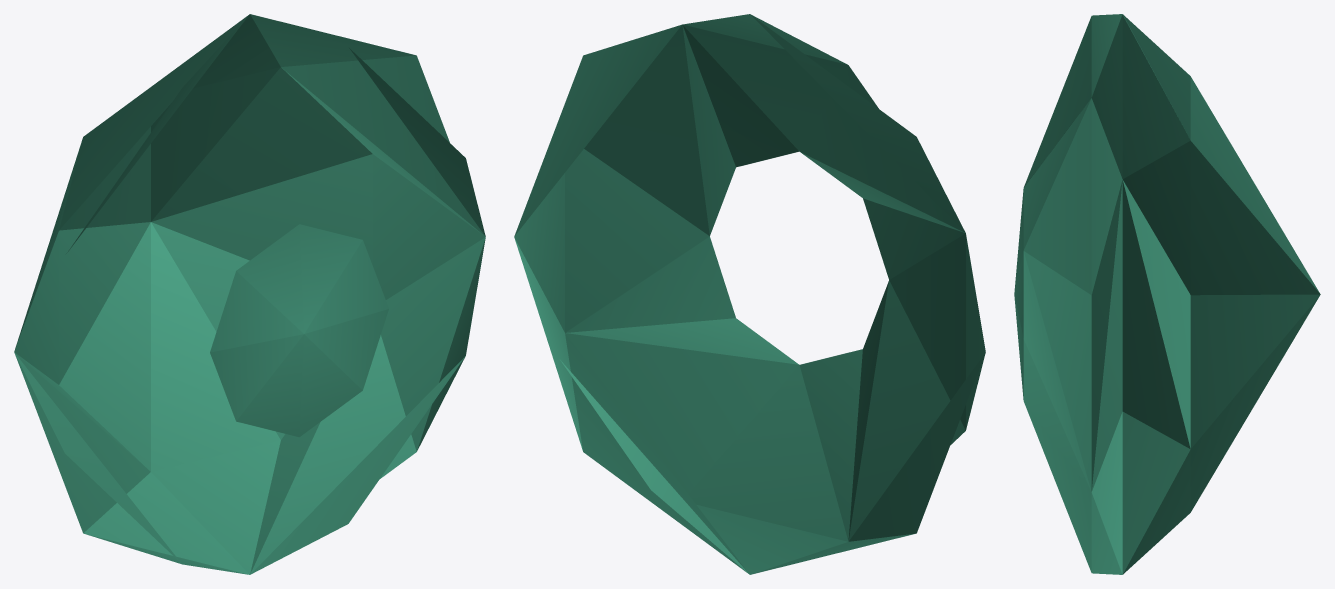
Rendered from emerald-demo.glb.
The picture shows the model from 3 angles, left to right: view 1: azimuth 30°, elevation 25°; view 2: azimuth 150°, elevation 25°; view 3: azimuth 270°, elevation 25°; orthographic projection.
Parts seen in each view (by area): view 1: world; view 2: world; view 3: world.
Part boxes in pixels (x1=…): world: x1=14, y1=14, x2=485, y2=574; world: x1=514, y1=14, x2=985, y2=574; world: x1=1014, y1=14, x2=1320, y2=574.
Bounding box in the file's own units: 1.76 × 2 × 0.99.
